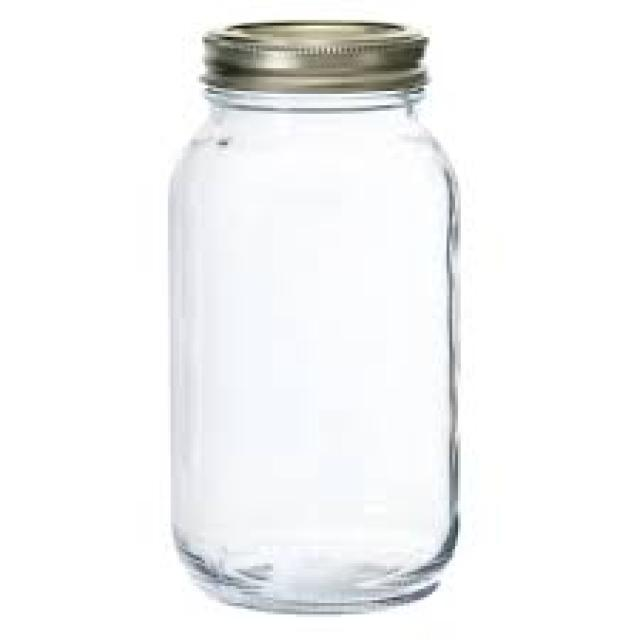glass: (165, 80, 461, 609)
metal: (199, 17, 424, 80)
